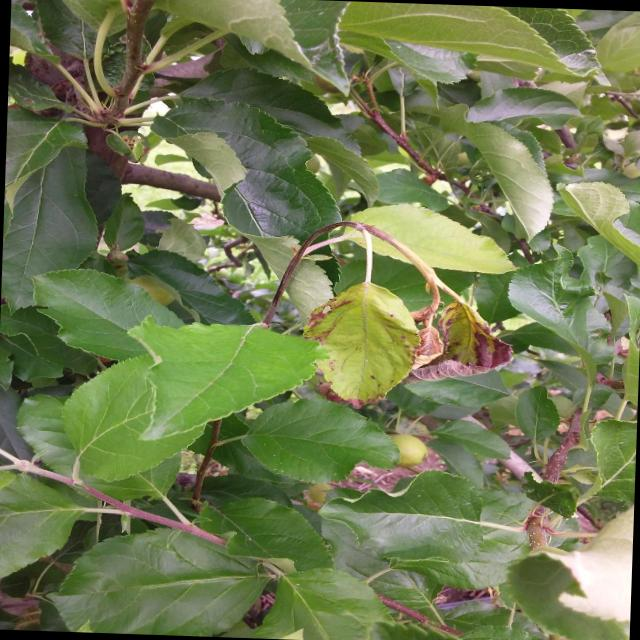-FireBlight-: (304, 285, 504, 386)
